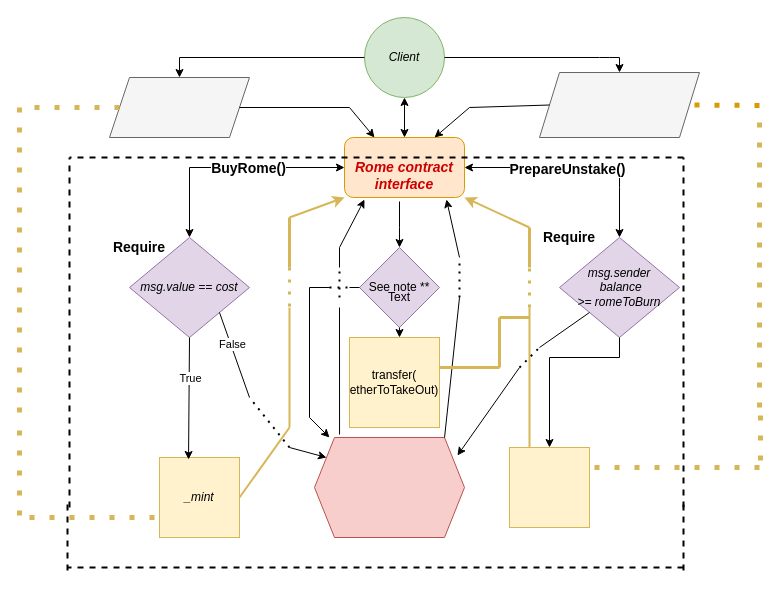
Image size: 781x590. Some labels were removed from this diagram. The shapes that lost their labels are listed below. From the top down, each one's centre as x and y in pixels, then its label:
At point (179, 107): "Client decides to buy rome".
At point (619, 105): "Client decides to unstake".
At point (389, 487): "! require(conditions)".
At point (549, 487): "_Burn".
